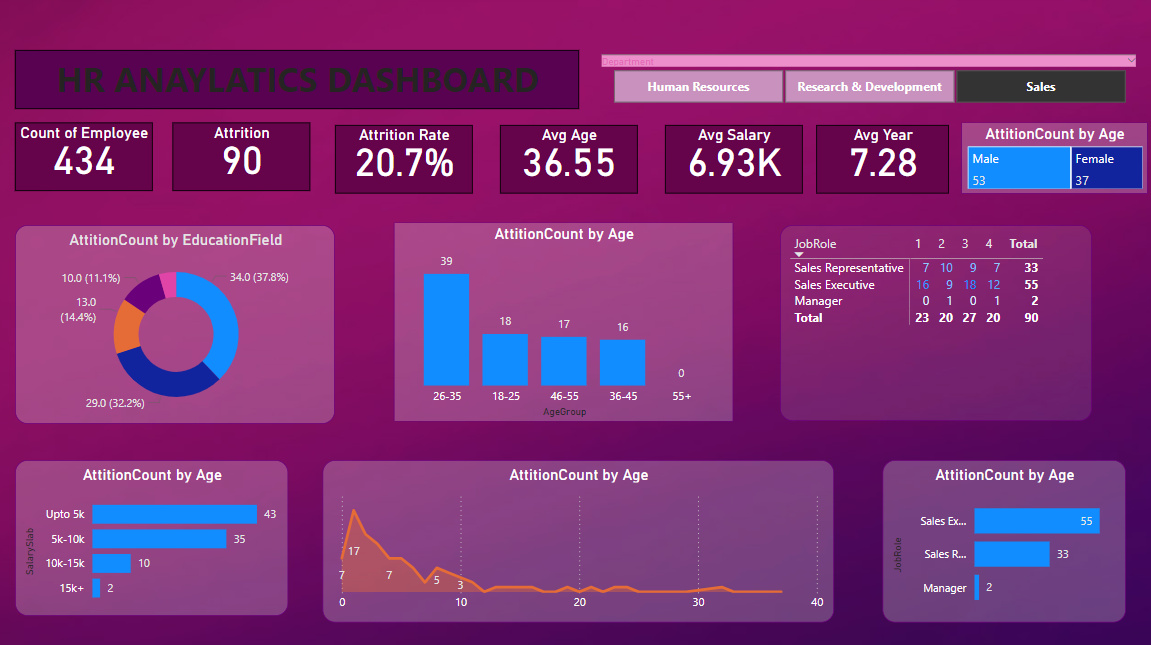

What the dashboard file says about the page in this screenshot:
{"tool":"powerbi","page":{"name":"Page 1","canvas":[1280,720],"ordinal":0},"visuals":[{"type":"card","title":"Count of Employee","fields":{"Values":["CountNonNull(HR_Analytics csv.EmpID)"]},"box":[21.9,139.8,150.8,75.4],"z":0},{"type":"card","title":"Attrition ","fields":{"Values":["Sum(HR_Analytics csv.AttitionCount)"]},"box":[194.7,139.8,150.8,75.4],"z":1000},{"type":"card","title":"Attrition Rate","fields":{"Values":["HR_Analytics csv.Attritonrate"]},"box":[372.9,142.6,150.8,75.4],"z":2000},{"type":"card","title":"Avg Age","fields":{"Values":["Avg(HR_Analytics csv.Age)"]},"box":[553.9,142.6,150.8,75.4],"z":3000},{"type":"card","title":"Avg Salary","fields":{"Values":["Avg(HR_Analytics csv.MonthlyIncome)"]},"box":[734.9,142.6,150.8,75.4],"z":4000},{"type":"card","title":"Avg Year  ","fields":{"Values":["Avg(HR_Analytics csv.YearsAtCompany)"]},"box":[901.5,142.7,145.5,75.5],"z":5000},{"type":"donutChart","title":"AttitionCount by EducationField","fields":{"Category":["HR_Analytics csv.EducationField"],"Y":["Sum(HR_Analytics csv.AttitionCount)"]},"box":[21.4,252.9,351.4,218.6],"z":6000},{"type":"columnChart","title":"AttitionCount by Age","fields":{"Category":["HR_Analytics csv.AgeGroup"],"Y":["Sum(HR_Analytics csv.AttitionCount)"]},"box":[437.1,250,372.9,218.6],"z":7000},{"type":"pivotTable","fields":{"Rows":["HR_Analytics csv.JobRole"],"Columns":["HR_Analytics csv.JobSatisfaction"],"Values":["Sum(HR_Analytics csv.AttitionCount)"]},"box":[862.4,252.3,342.8,215.3],"z":8000},{"type":"clusteredBarChart","title":"AttitionCount by Age","fields":{"Category":["HR_Analytics csv.SalarySlab"],"Y":["Sum(HR_Analytics csv.AttitionCount)"]},"box":[21.4,510,300,171.4],"z":9000},{"type":"clusteredBarChart","title":"AttitionCount by Age","fields":{"Category":["HR_Analytics csv.JobRole"],"Y":["Sum(HR_Analytics csv.AttitionCount)"]},"box":[974.3,510,267.1,178.6],"z":10000},{"type":"stackedAreaChart","title":"AttitionCount by Age","fields":{"Category":["HR_Analytics csv.YearsAtCompany"],"Y":["Sum(HR_Analytics csv.AttitionCount)"]},"box":[360,510,561.4,178.6],"z":11000},{"type":"treemap","title":"AttitionCount by Age","fields":{"Group":["HR_Analytics csv.Gender"],"Values":["Sum(HR_Analytics csv.AttitionCount)"]},"box":[1060.7,140,204.5,78.2],"z":12000},{"type":"slicer","fields":{"Values":["HR_Analytics csv.Department"]},"box":[653.2,60.4,612,64.5],"z":13000},{"type":"textbox","box":[22,60.4,618.9,64.5],"z":14000}]}

Visuals, with their boxes in screenshot pixels (x1, y1, x2, y2), scaled from the page's 1280x720 canvas onto the 1151x645 screenshot:
"Count of Employee" card: 20, 125, 155, 193
"Attrition " card: 175, 125, 311, 193
"Attrition Rate" card: 335, 128, 471, 195
"Avg Age" card: 498, 128, 634, 195
"Avg Salary" card: 661, 128, 796, 195
"Avg Year  " card: 811, 128, 941, 195
"AttitionCount by EducationField" donutChart: 19, 227, 335, 422
"AttitionCount by Age" columnChart: 393, 224, 728, 420
pivotTable - HR_Analytics csv.JobRole x HR_Analytics csv.JobSatisfaction: 775, 226, 1084, 419
"AttitionCount by Age" clusteredBarChart: 19, 457, 289, 610
"AttitionCount by Age" clusteredBarChart: 876, 457, 1116, 617
"AttitionCount by Age" stackedAreaChart: 324, 457, 829, 617
"AttitionCount by Age" treemap: 954, 125, 1138, 195
slicer - HR_Analytics csv.Department: 587, 54, 1138, 112
textbox: 20, 54, 576, 112
